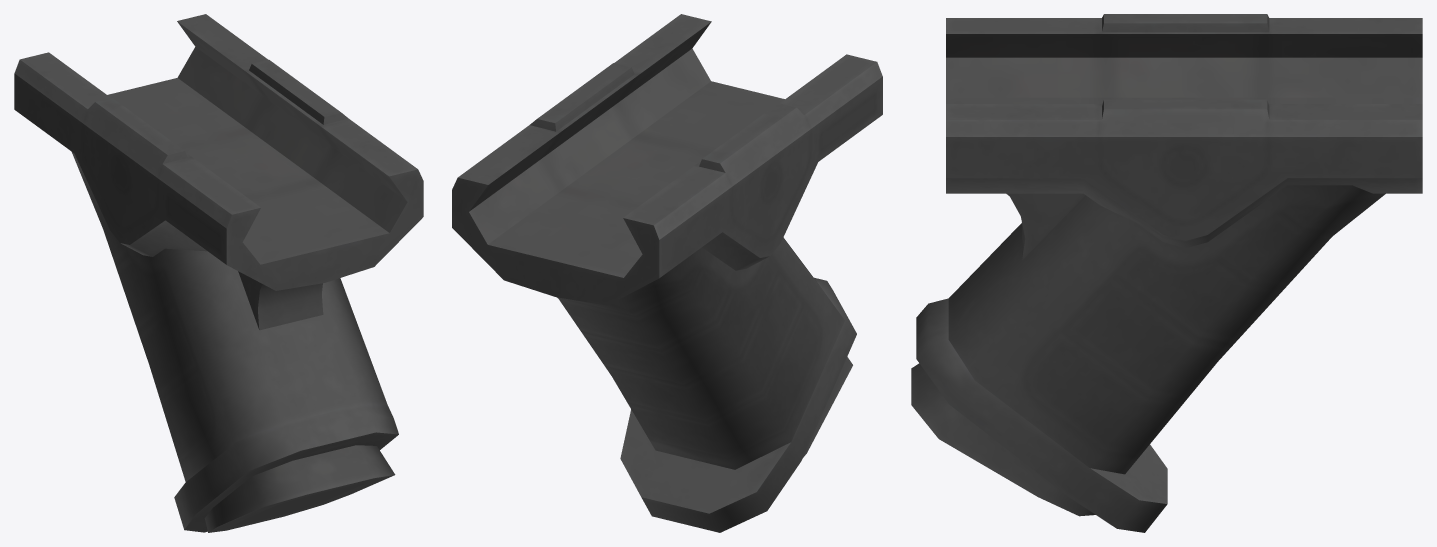
The model's file is IG_Acc_Grip_ALL_SCA_2.fbx.
3 views of the same model, side by side, from view 1: azimuth 30°, elevation 25°; view 2: azimuth 150°, elevation 25°; view 3: azimuth 270°, elevation 25° (orthographic). The views are drawn at different scales.
Parts seen in each view (by area): view 1: Acc_Grip_ALL_SCA_2; view 2: Acc_Grip_ALL_SCA_2; view 3: Acc_Grip_ALL_SCA_2.
Part boxes in pixels (x1,y1,x2,y2): Acc_Grip_ALL_SCA_2: (14, 14, 423, 532); Acc_Grip_ALL_SCA_2: (452, 14, 882, 532); Acc_Grip_ALL_SCA_2: (911, 14, 1422, 532).
Bounding box in the file's own units: 0.0702 × 0.1377 × 0.1406.
1 material, 1 textured.
